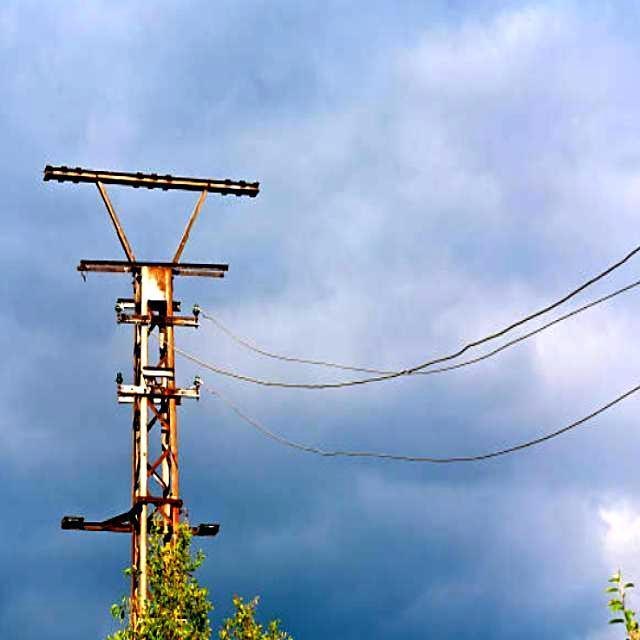critical vegetation: (128, 285, 202, 640), (127, 442, 197, 640)
